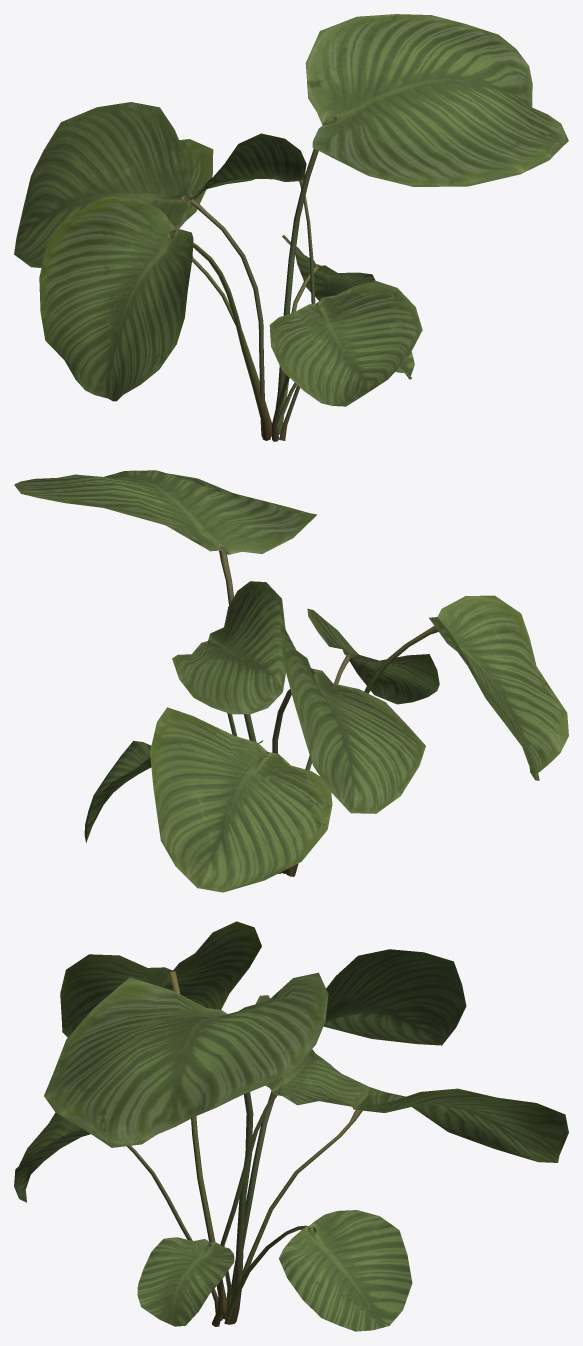
File: Vine c LOD0.fbx
The picture shows the model from 3 angles, top to bottom: view 1: azimuth 30°, elevation 25°; view 2: azimuth 150°, elevation 25°; view 3: azimuth 270°, elevation 25°; orthographic projection. The views are drawn at different scales.
Visible parts, largest first — view 1: calathea_orbifolia_01_a; view 2: calathea_orbifolia_01_a; view 3: calathea_orbifolia_01_a.
Boxes of the visible parts, x1,y1,x2,y2 form: calathea_orbifolia_01_a: (14, 14, 568, 441); calathea_orbifolia_01_a: (14, 470, 568, 892); calathea_orbifolia_01_a: (14, 921, 568, 1331).
Size of the model in its own units: 58.42 by 41.27 by 51.89.
